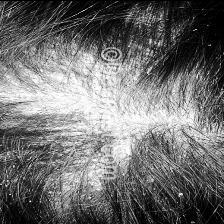Non-Cancerous Skin Condition: (24, 68, 96, 108), (101, 108, 191, 136)
